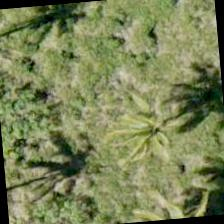Kelapa_Sawit: (97, 80, 196, 178)
